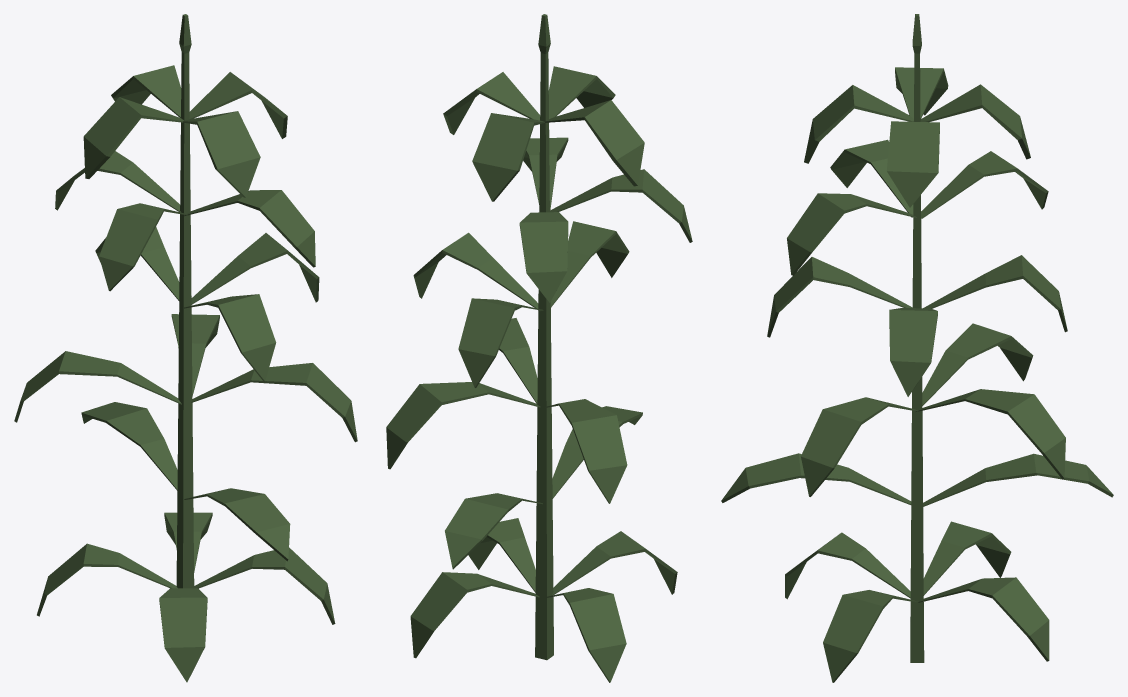
The model's file is Corn_1-transformed.glb.
3 views of the same model, side by side, from view 1: azimuth 30°, elevation 25°; view 2: azimuth 150°, elevation 25°; view 3: azimuth 270°, elevation 25° (orthographic).
Parts seen in each view (by area): view 1: Corn_1; view 2: Corn_1; view 3: Corn_1.
Part boxes in pixels (box(x1,y1,x2,y2)): Corn_1: box(14, 14, 357, 682); Corn_1: box(386, 14, 692, 682); Corn_1: box(721, 14, 1113, 682).
Size of the model in its own units: 0.8237 by 1.98 by 1.09.
